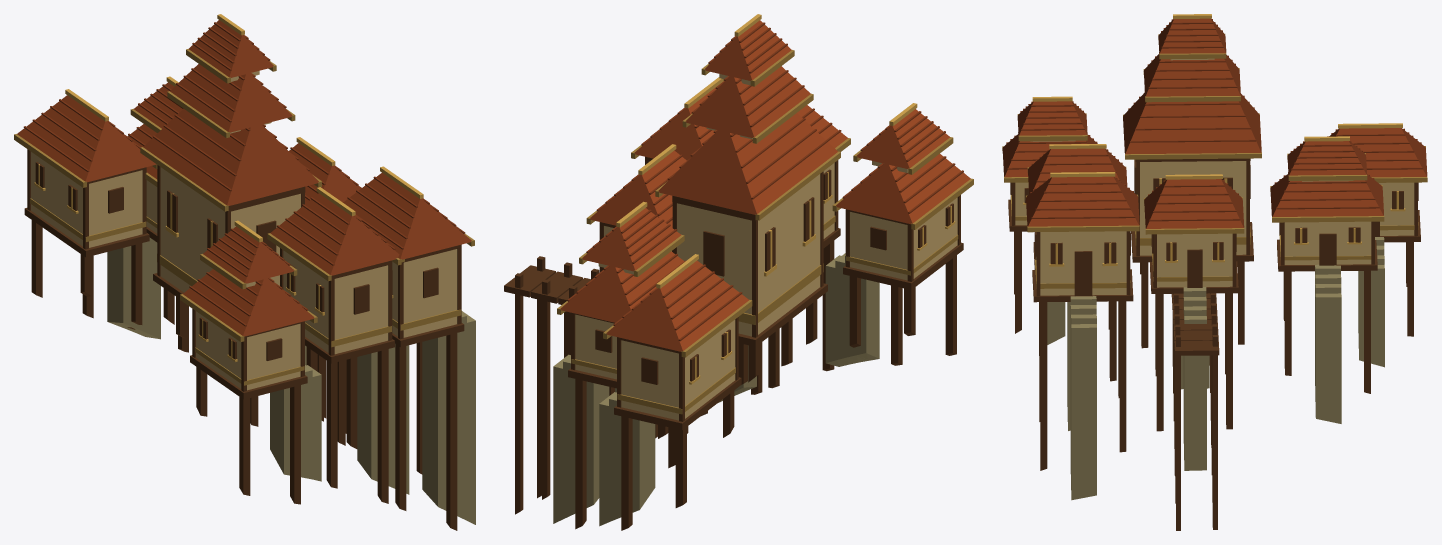
Rendered from ternate.obj.
3 renders of one model, left to right at view 1: azimuth 30°, elevation 25°; view 2: azimuth 150°, elevation 25°; view 3: azimuth 270°, elevation 25°, orthographic. The views are drawn at different scales.
Parts seen in each view (by area): view 1: ternate; view 2: ternate; view 3: ternate.
Boxes of the visible parts, x1,y1,x2,y2 form: ternate: (14, 14, 475, 530); ternate: (504, 14, 973, 530); ternate: (1002, 14, 1427, 530).
Size of the model in its own units: 8.88 by 13.36 by 11.97.
